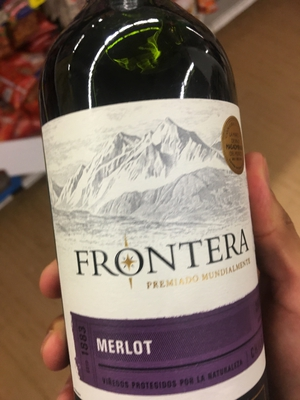frontera merlot: (39, 4, 285, 400)
